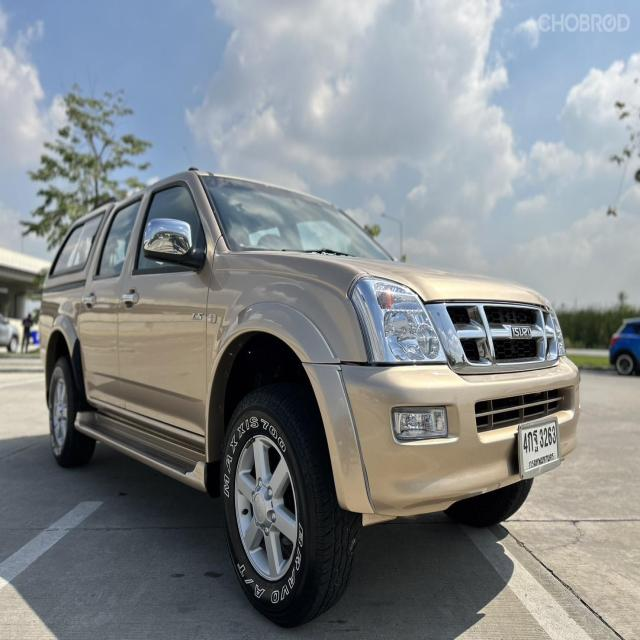license_plate: (513, 413, 563, 481)
